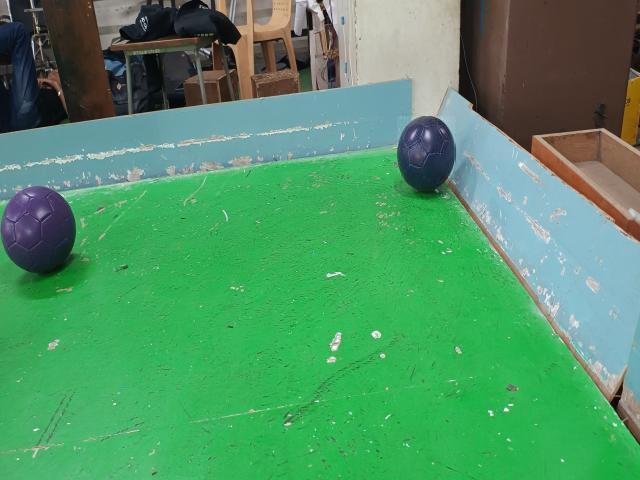jambhalya: (0, 187, 76, 273)
kaalyya: (397, 116, 455, 191)
